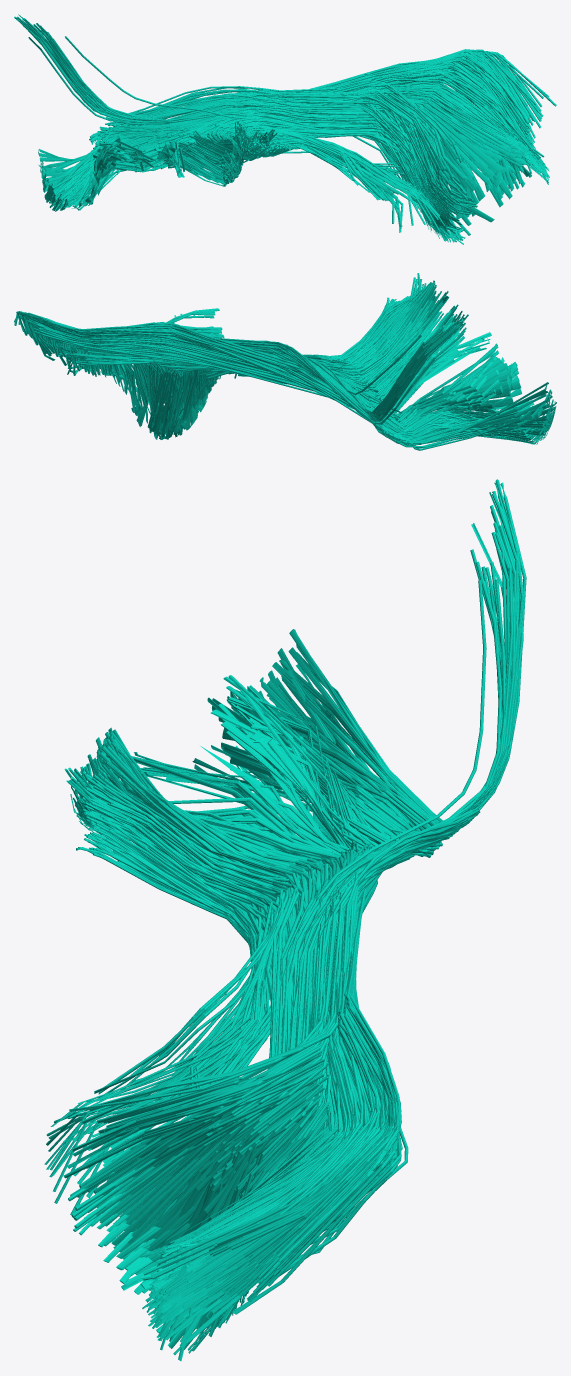
The model's file is SLF_III.glb.
3 views of the same model, one above another, from view 1: azimuth 30°, elevation 25°; view 2: azimuth 150°, elevation 25°; view 3: azimuth 270°, elevation 25° (orthographic). The views are drawn at different scales.
Parts seen in each view (by area): view 1: Tract_SLF3; view 2: Tract_SLF3; view 3: Tract_SLF3.
Part boxes in pixels (x1,y1,x2,y2): Tract_SLF3: (14, 14, 556, 244); Tract_SLF3: (14, 273, 556, 450); Tract_SLF3: (44, 479, 526, 1361).
Bounding box in the file's own units: 71.48 × 34.69 × 29.14.
